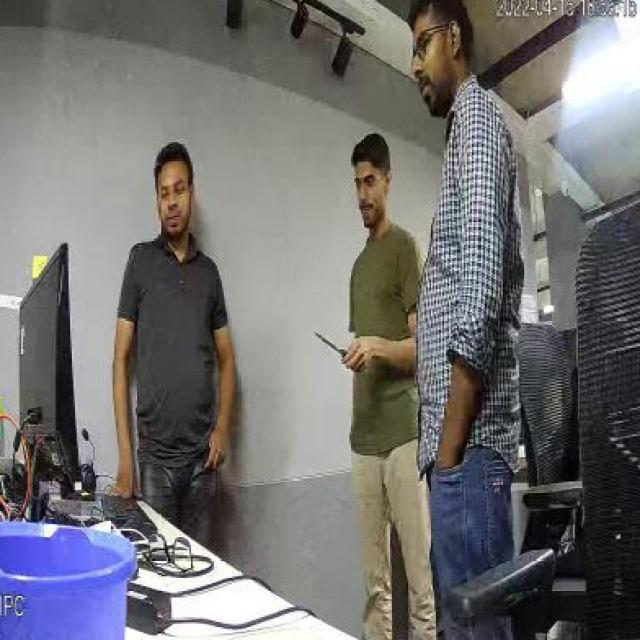Knife: (302, 320, 361, 377)
